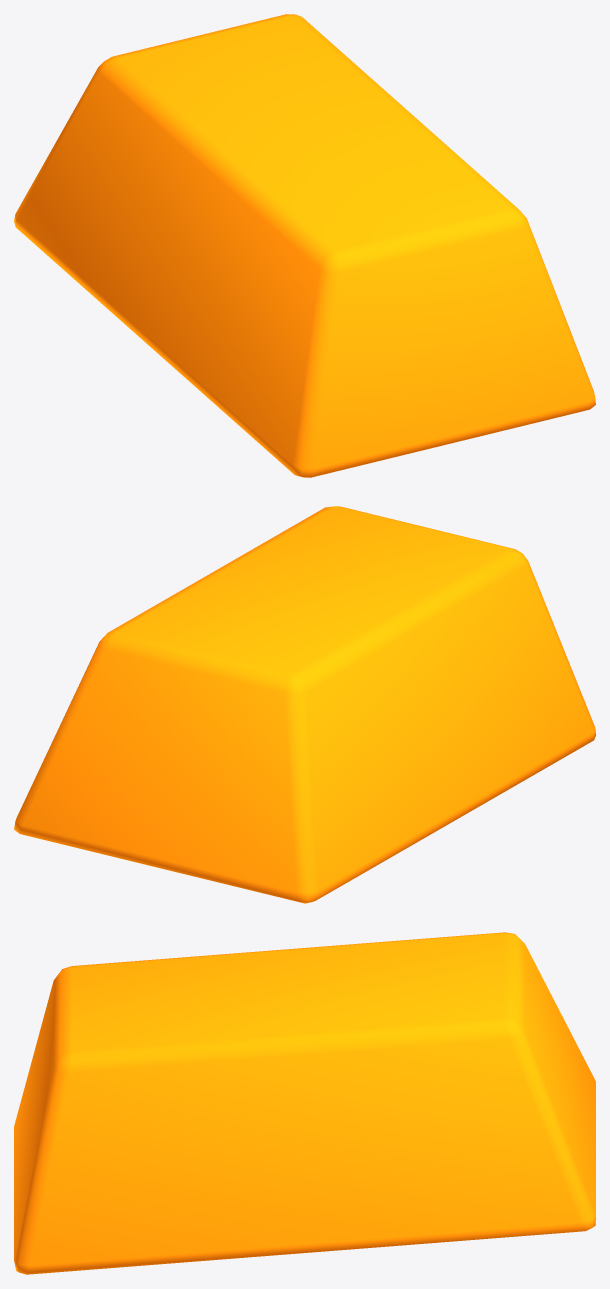
File: BI_Ingot.fbx
3 views of the same model, one above another, from view 1: azimuth 30°, elevation 25°; view 2: azimuth 150°, elevation 25°; view 3: azimuth 270°, elevation 25° (orthographic).
Visible parts, largest first — view 1: Ingot; view 2: Ingot; view 3: Ingot.
Part boxes in pixels (x1,y1,x2,y2): Ingot: (14,14,595,477); Ingot: (14,506,595,903); Ingot: (14,932,595,1274).
Bounding box in the file's own units: 0.7623 × 0.5575 × 1.28.
